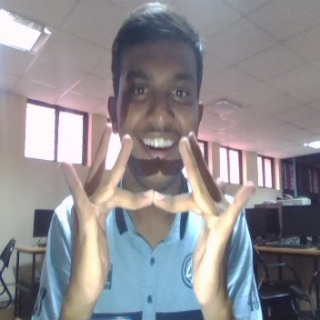Internet: (50, 119, 257, 320)
